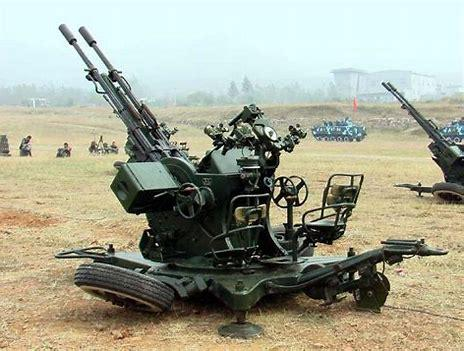MIL_SPG: (56, 24, 427, 338)
